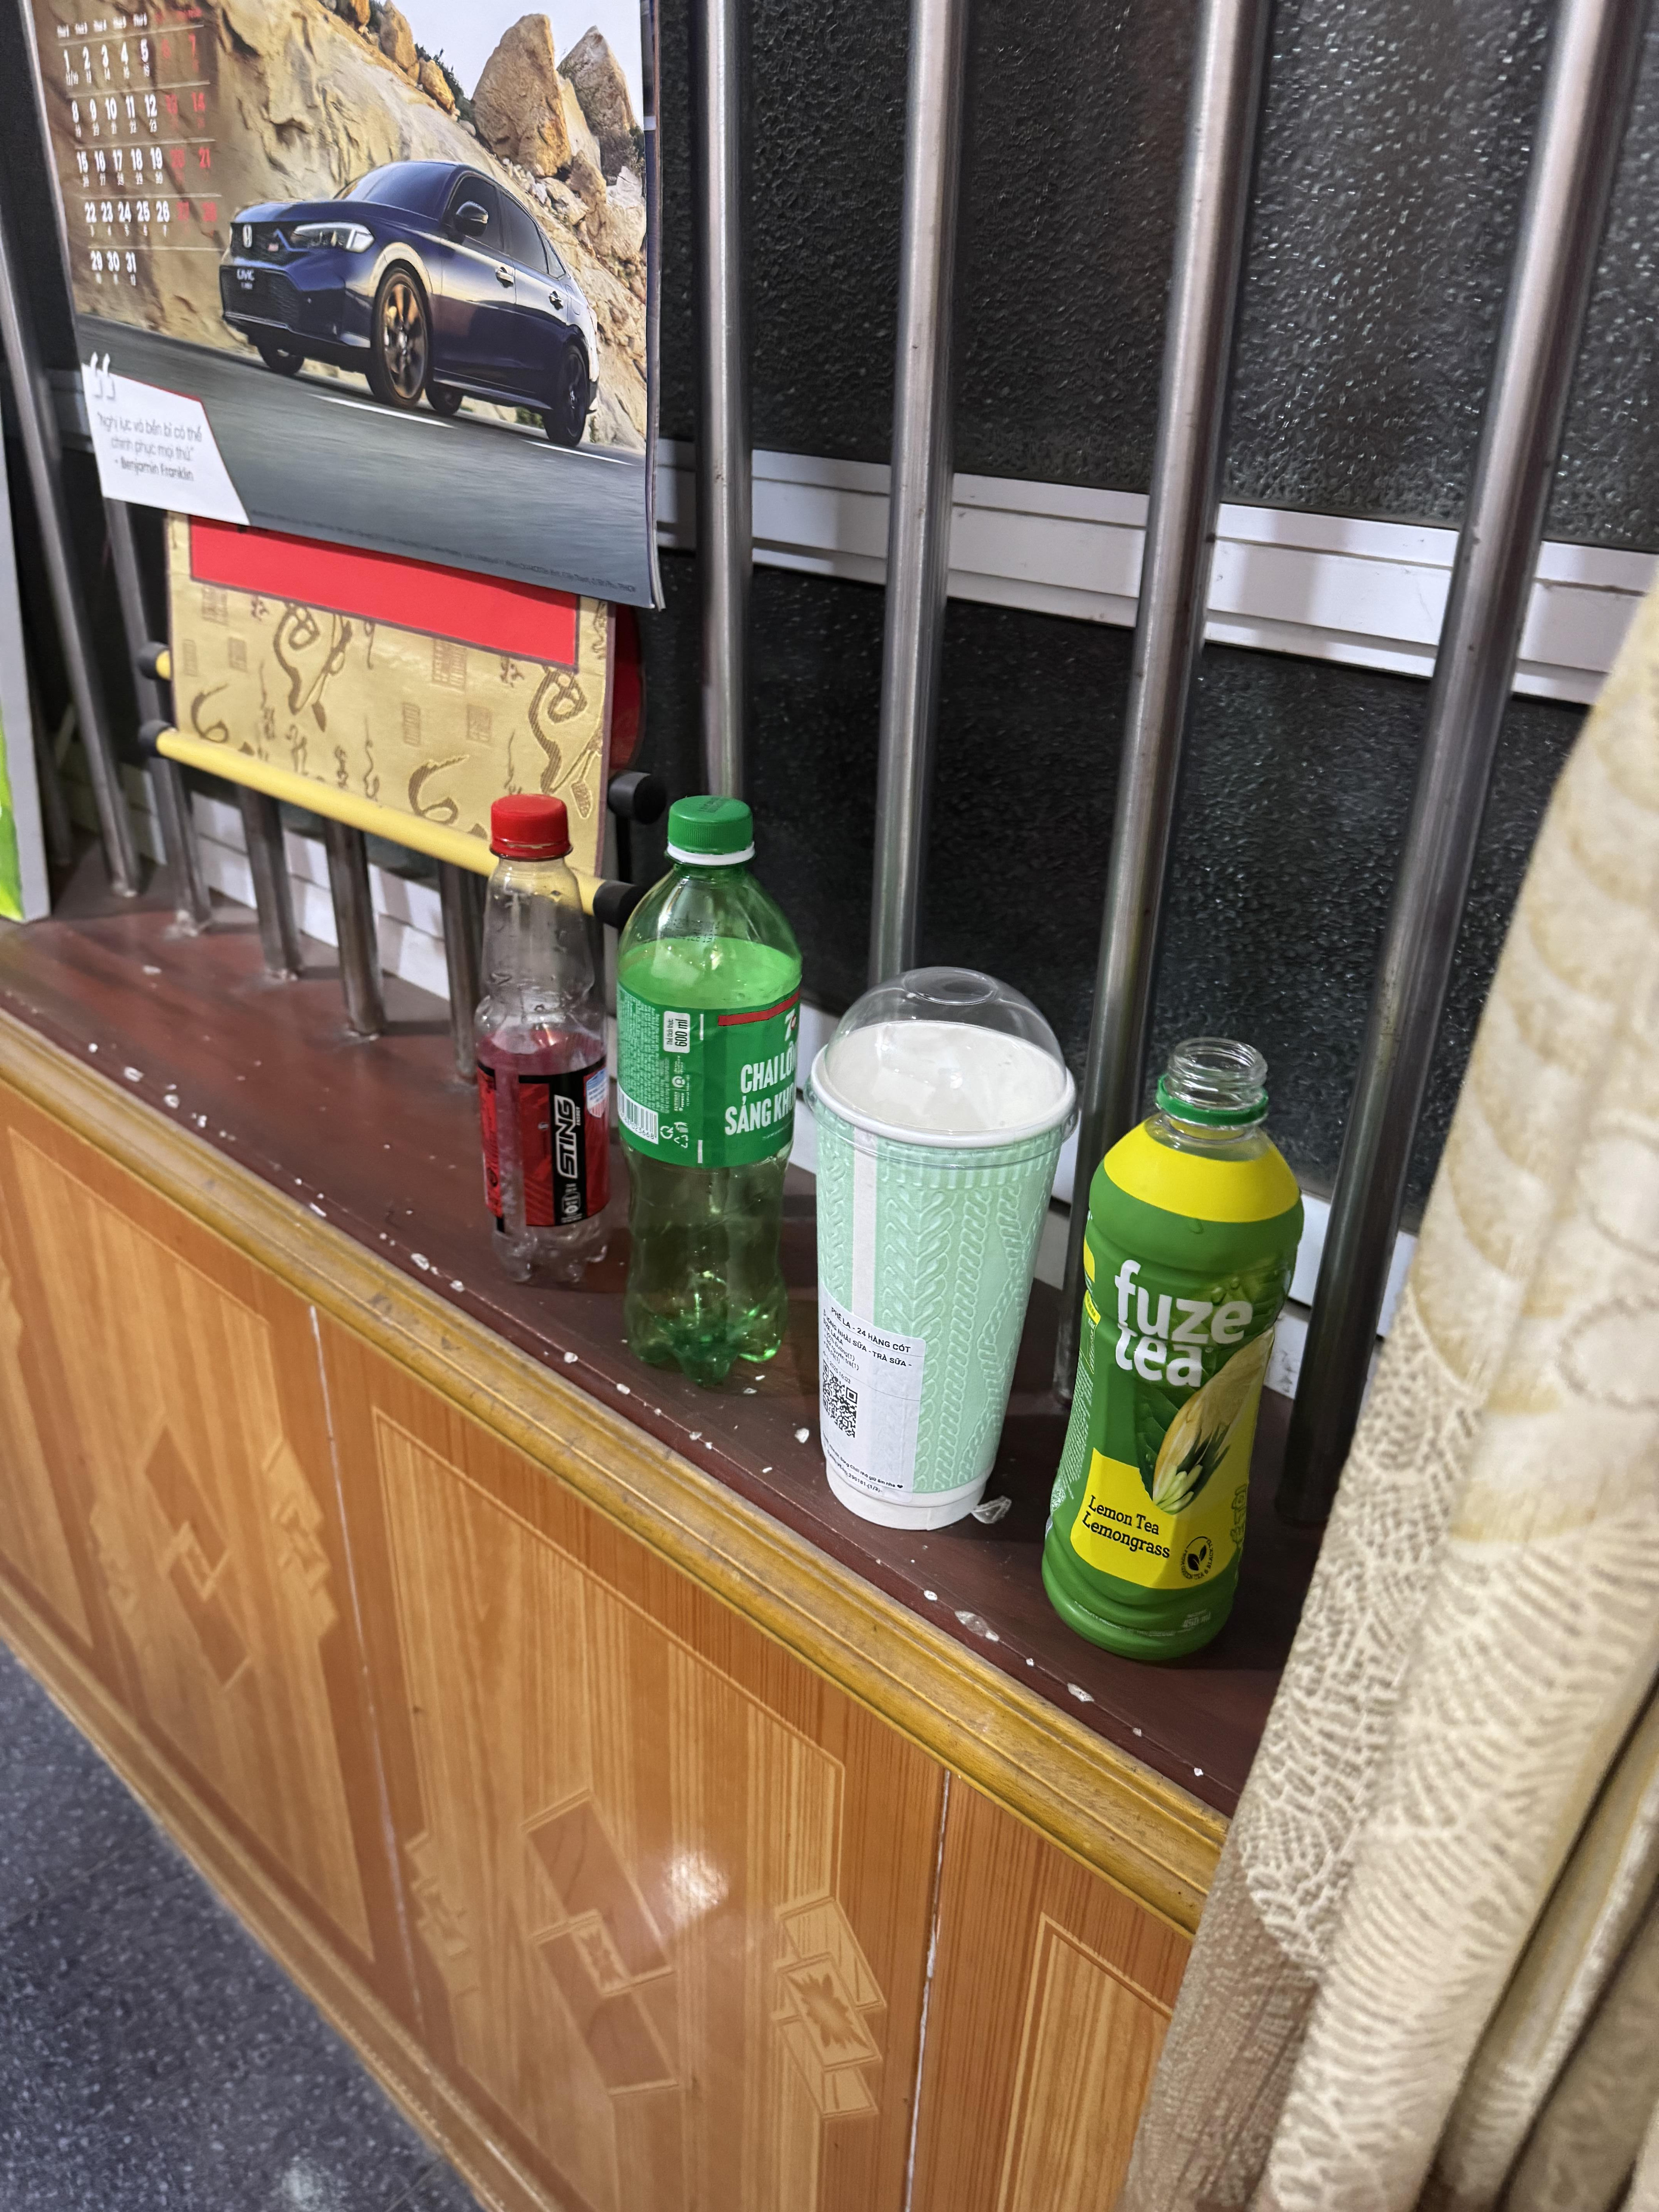2: (788, 932, 1101, 1552)
bottle: (1028, 1021, 1333, 1660), (598, 777, 816, 1406), (457, 763, 619, 1303)
